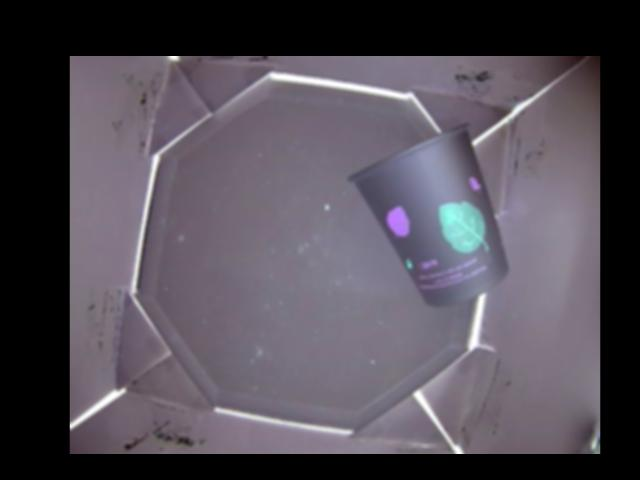Cup: (348, 118, 509, 309)
